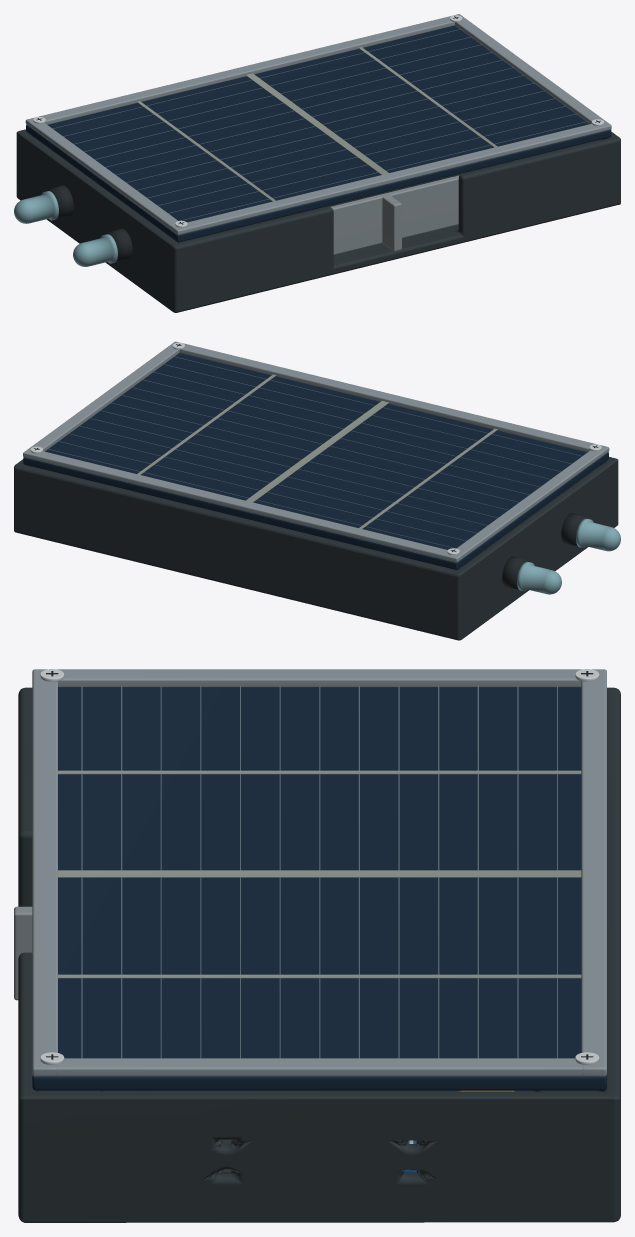
File: flashlight-assembly-blender-candidate.glb
3 views of the same model, one above another, from view 1: azimuth 30°, elevation 25°; view 2: azimuth 150°, elevation 25°; view 3: azimuth 270°, elevation 25° (orthographic). The views are drawn at different scales.
Parts seen in each view (by area): view 1: solar_panel_placeholder, enclosure, switch, led_left, led_right; view 2: solar_panel_placeholder, enclosure, led_left, led_right; view 3: solar_panel_placeholder, enclosure, switch.
Boxes of the visible parts, <box> form: solar_panel_placeholder: <box>25,14,611,242</box>; enclosure: <box>16,129,620,312</box>; switch: <box>330,175,459,254</box>; led_left: <box>73,234,117,266</box>; led_right: <box>14,191,58,223</box>; solar_panel_placeholder: <box>23,341,609,569</box>; enclosure: <box>14,457,618,640</box>; led_left: <box>576,518,620,551</box>; led_right: <box>517,561,561,594</box>; solar_panel_placeholder: <box>32,669,606,1090</box>; enclosure: <box>18,687,620,1222</box>; switch: <box>14,906,32,1000</box>.
Size of the model in its own units: 0.1168 by 0.0182 by 0.0655.
